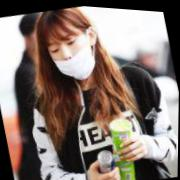WRONG: (45, 24, 99, 85)
